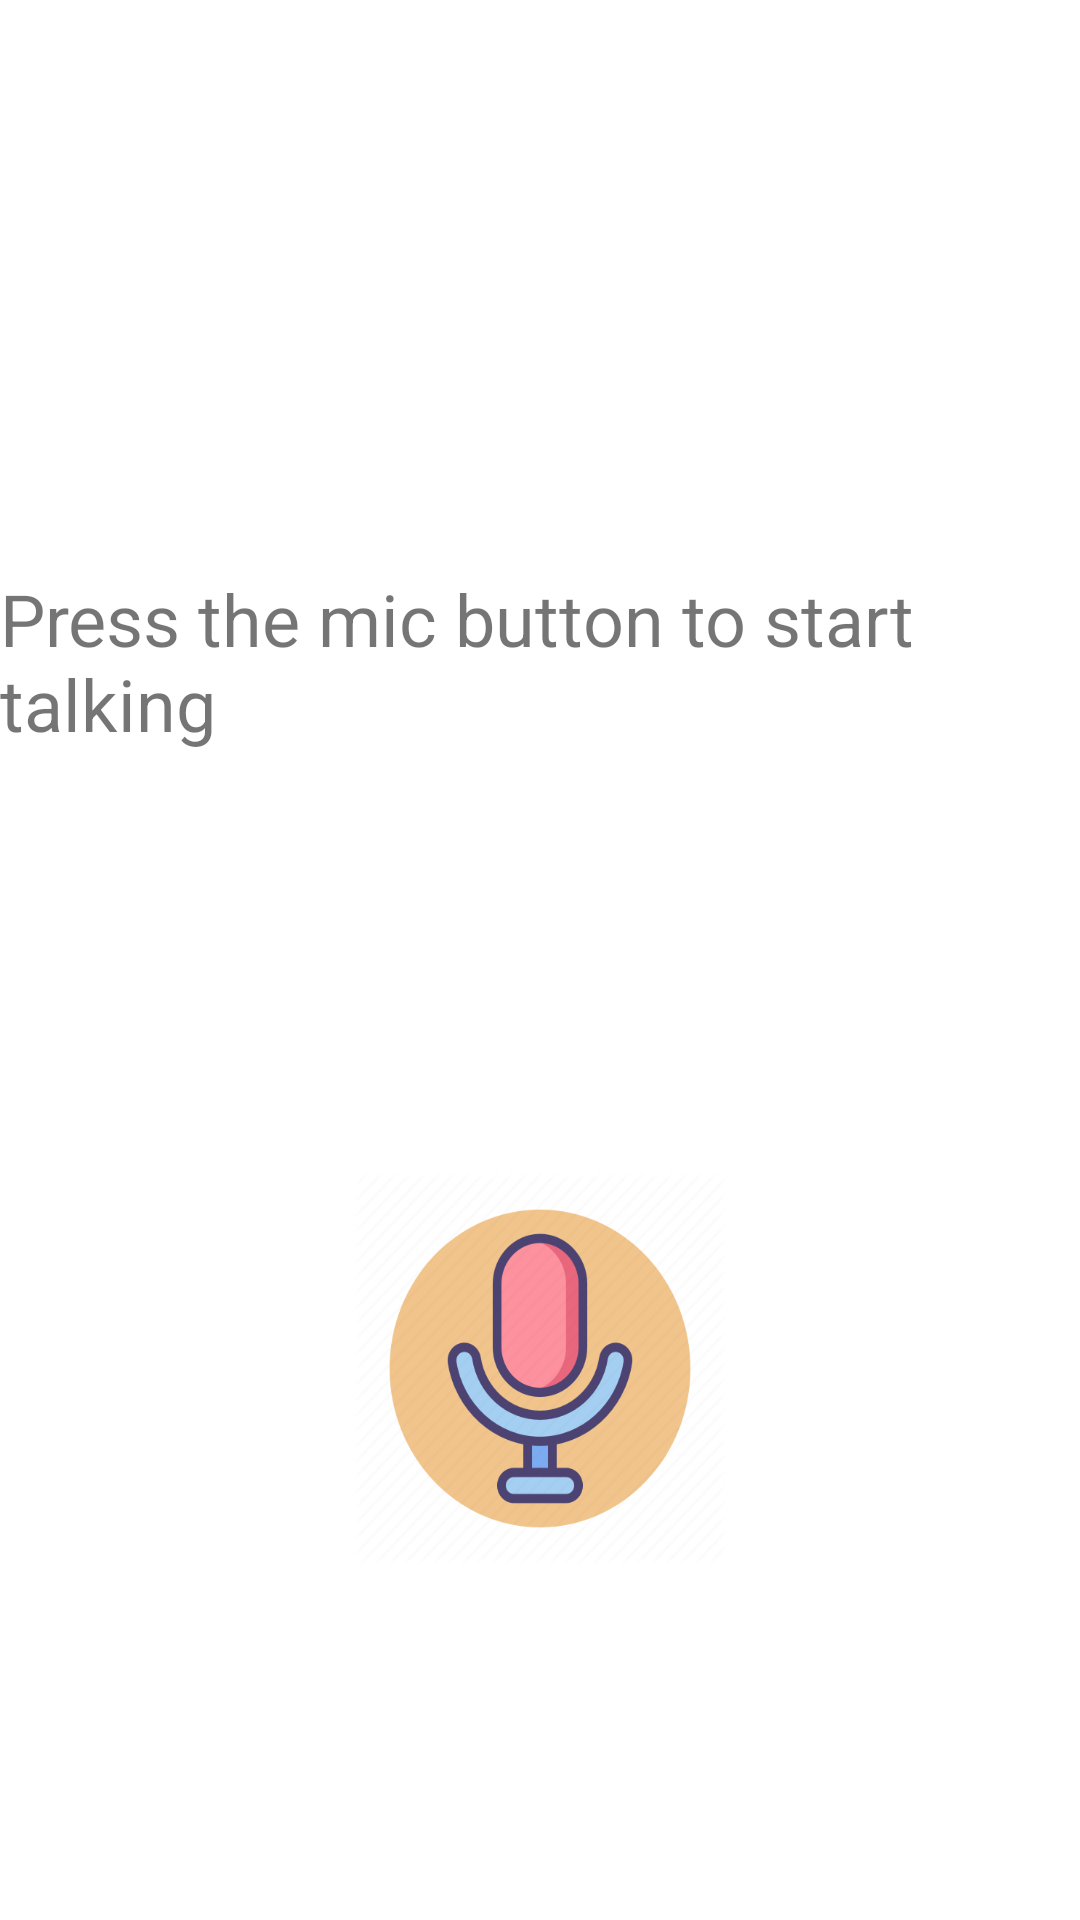

Point at icon controls on the screen. Image size 1080*1920, points as (x=x, y=y).
mic: (x=540, y=1368)
